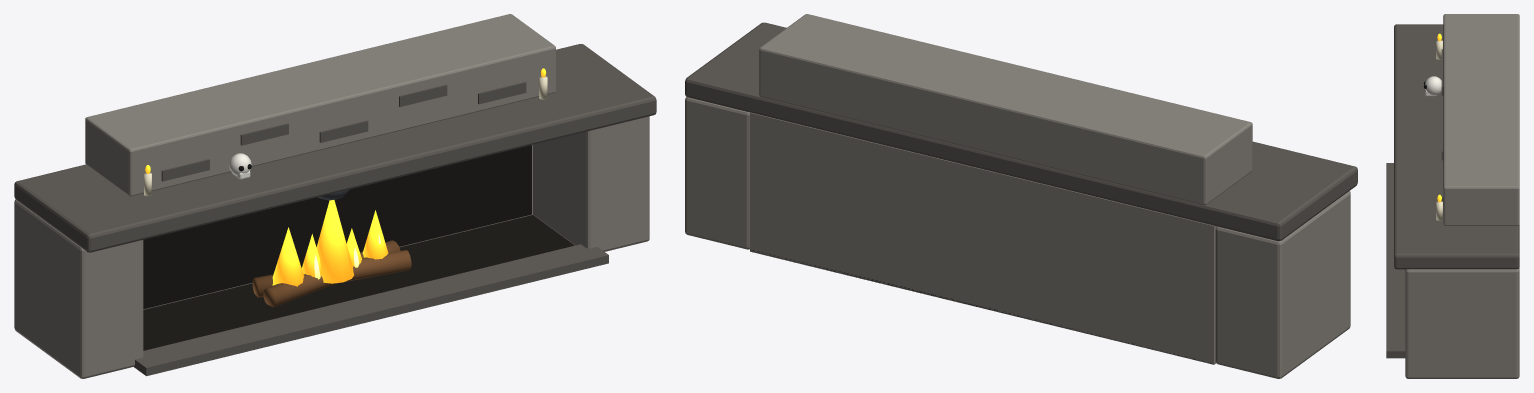
File: fireplace.glb
The picture shows the model from 3 angles, left to right: view 1: azimuth 30°, elevation 25°; view 2: azimuth 150°, elevation 25°; view 3: azimuth 270°, elevation 25°; orthographic projection. The views are drawn at different scales.
Visible parts, largest first — view 1: fireplace; view 2: fireplace; view 3: fireplace.
Boxes of the visible parts, left/top/right/bottom form: fireplace: left=14, top=14, right=656, bottom=378; fireplace: left=685, top=14, right=1357, bottom=378; fireplace: left=1386, top=14, right=1519, bottom=378.
Size of the model in its own units: 2.88 by 0.95 by 0.7.
